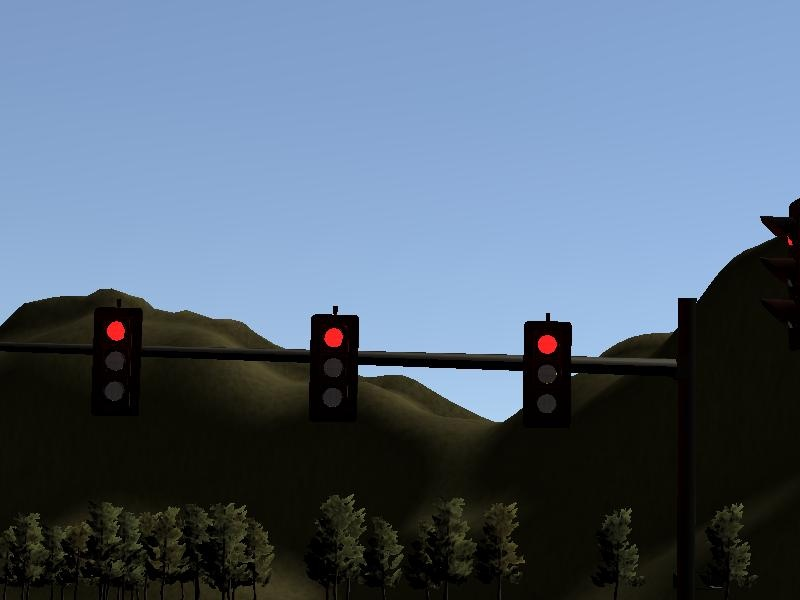RED: (522, 322, 571, 425), (308, 314, 357, 417), (93, 309, 142, 412)
